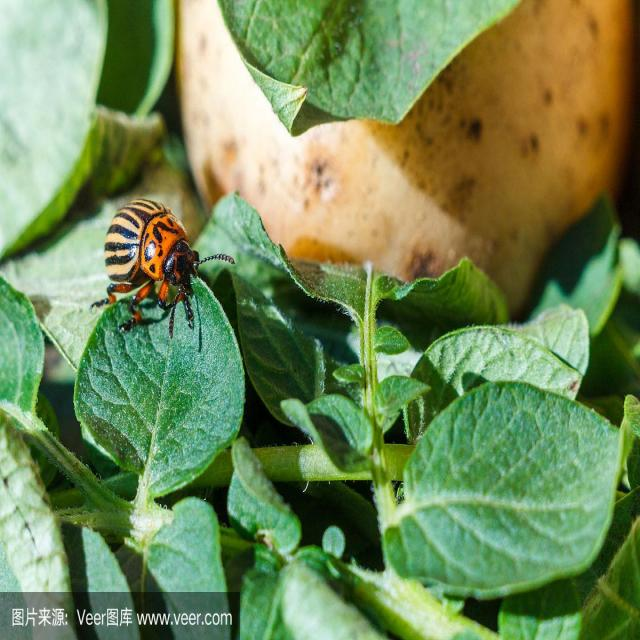ShuCaiHuaBanChong-Grown-: (88, 192, 221, 331)
